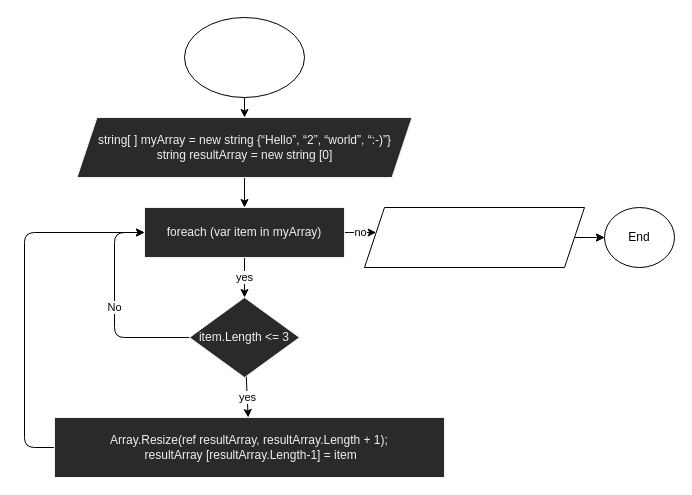
Some shapes in this 692 by 495 pixel diagram are drawn without their labels. Here are the shapes that lost their labels. From the top down, the box of each, then its label:
(184, 16, 304, 98): Start
(364, 206, 584, 268): Console.WriteLine($"[{String.Join("; ", resultArray)}]")
